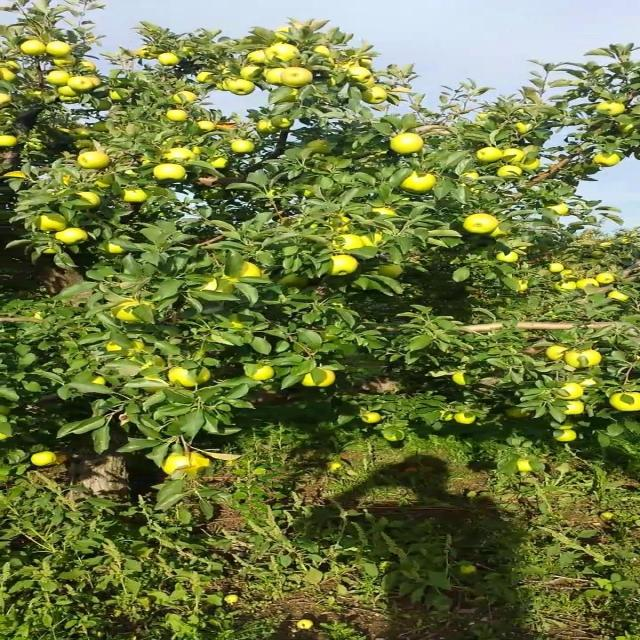apple: (163, 452, 213, 473), (113, 300, 155, 323), (170, 368, 213, 388), (390, 136, 427, 155), (404, 172, 437, 193), (227, 264, 263, 283), (326, 256, 359, 276), (77, 152, 112, 169), (156, 164, 185, 184), (284, 68, 313, 88), (568, 352, 604, 368), (56, 228, 89, 245), (611, 392, 639, 412), (468, 216, 498, 234), (269, 44, 299, 62), (141, 376, 167, 396), (120, 340, 148, 357), (305, 372, 334, 388), (163, 148, 196, 162), (333, 236, 363, 251), (205, 280, 235, 295), (376, 264, 405, 279), (362, 88, 389, 104), (42, 216, 69, 232), (276, 276, 311, 288), (77, 192, 100, 210), (476, 148, 501, 164), (596, 152, 622, 167), (20, 40, 44, 56), (596, 104, 626, 116), (333, 216, 354, 233), (127, 188, 149, 204), (255, 120, 277, 136), (561, 384, 583, 400), (234, 80, 256, 96), (362, 232, 384, 248), (248, 368, 277, 380), (497, 168, 526, 180), (504, 408, 532, 420), (276, 88, 297, 104), (504, 148, 526, 163), (106, 344, 135, 355), (234, 140, 256, 154), (49, 72, 71, 86), (348, 68, 370, 82), (35, 452, 55, 467), (70, 80, 94, 92), (575, 164, 599, 176), (547, 348, 569, 361), (362, 412, 384, 424), (454, 412, 476, 424), (49, 44, 71, 56), (561, 404, 583, 416), (177, 92, 199, 104), (248, 52, 270, 64), (497, 252, 519, 264), (547, 204, 569, 216), (56, 56, 78, 68), (92, 176, 114, 188), (369, 208, 398, 217), (312, 140, 332, 153), (241, 68, 261, 81), (269, 68, 284, 85), (518, 244, 539, 256), (63, 92, 84, 104), (355, 72, 373, 86), (554, 432, 576, 443), (106, 244, 128, 255), (611, 292, 631, 303), (490, 228, 510, 239), (198, 72, 215, 84), (383, 432, 404, 441), (170, 112, 190, 121), (454, 372, 469, 384), (518, 460, 533, 472), (596, 276, 617, 284), (6, 136, 20, 148), (461, 172, 482, 180), (163, 56, 178, 67), (518, 124, 533, 135), (525, 160, 540, 171), (77, 128, 92, 139), (362, 76, 377, 87), (618, 124, 636, 133), (42, 248, 62, 256), (63, 88, 80, 97), (276, 120, 292, 129), (198, 124, 215, 132), (141, 52, 158, 60), (92, 376, 107, 385), (77, 140, 92, 149), (220, 80, 231, 92), (212, 160, 228, 168), (92, 124, 108, 132), (582, 280, 597, 288), (561, 284, 576, 292), (99, 104, 114, 112), (582, 380, 597, 388), (319, 48, 332, 57), (442, 412, 455, 421), (28, 144, 44, 151), (6, 64, 21, 71), (561, 272, 576, 279), (561, 424, 576, 431), (113, 92, 124, 101), (305, 188, 316, 197), (84, 64, 98, 71), (92, 76, 100, 88), (56, 456, 68, 464), (191, 148, 204, 155), (589, 252, 604, 258), (554, 264, 565, 272), (234, 320, 245, 328), (6, 72, 16, 80), (362, 60, 372, 68), (518, 284, 528, 292), (618, 240, 636, 244), (63, 176, 71, 184), (184, 48, 194, 54), (604, 244, 612, 248), (1, 436, 7, 440)
